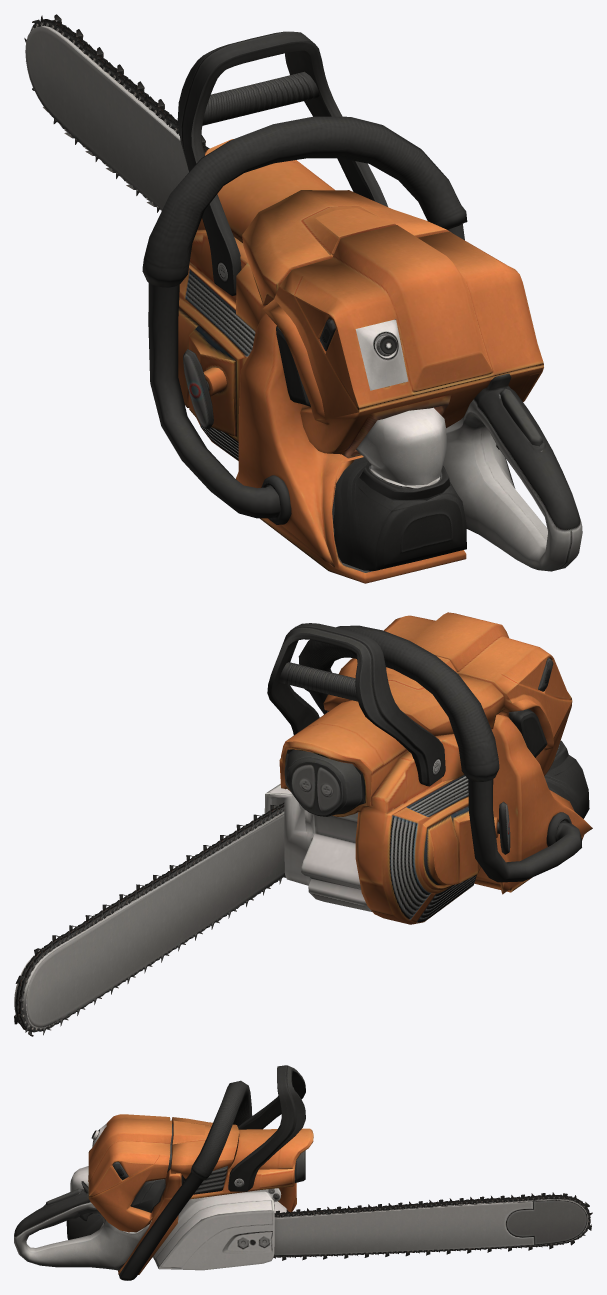
The picture shows the model from 3 angles, top to bottom: view 1: azimuth 30°, elevation 25°; view 2: azimuth 150°, elevation 25°; view 3: azimuth 270°, elevation 25°; orthographic projection. The views are drawn at different scales.
Visible parts, largest first — view 1: chainsaw, Cube.002; view 2: chainsaw, Cube.002; view 3: chainsaw, Cube.002.
Part boxes in pixels (x1,y1,x2,y2): chainsaw: (25, 25, 582, 583); Cube.002: (24, 14, 209, 212); chainsaw: (14, 612, 592, 1028); Cube.002: (14, 802, 285, 1036); chainsaw: (14, 1065, 588, 1280); Cube.002: (273, 1192, 592, 1260).
Size of the model in its own units: 2.58 by 3.16 by 9.
Materials: 4 (4 with a texture image).
